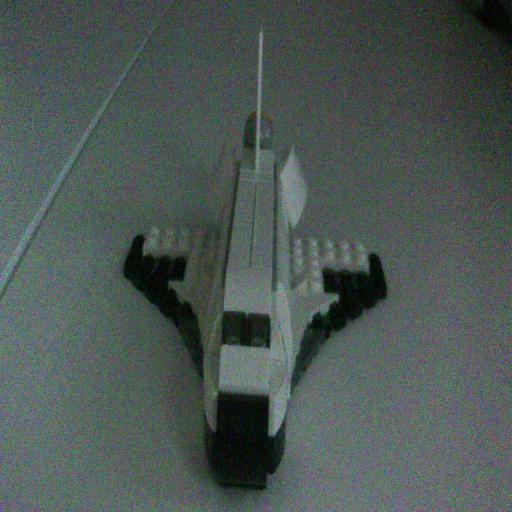defect_missingpiece: (122, 251, 192, 290)
